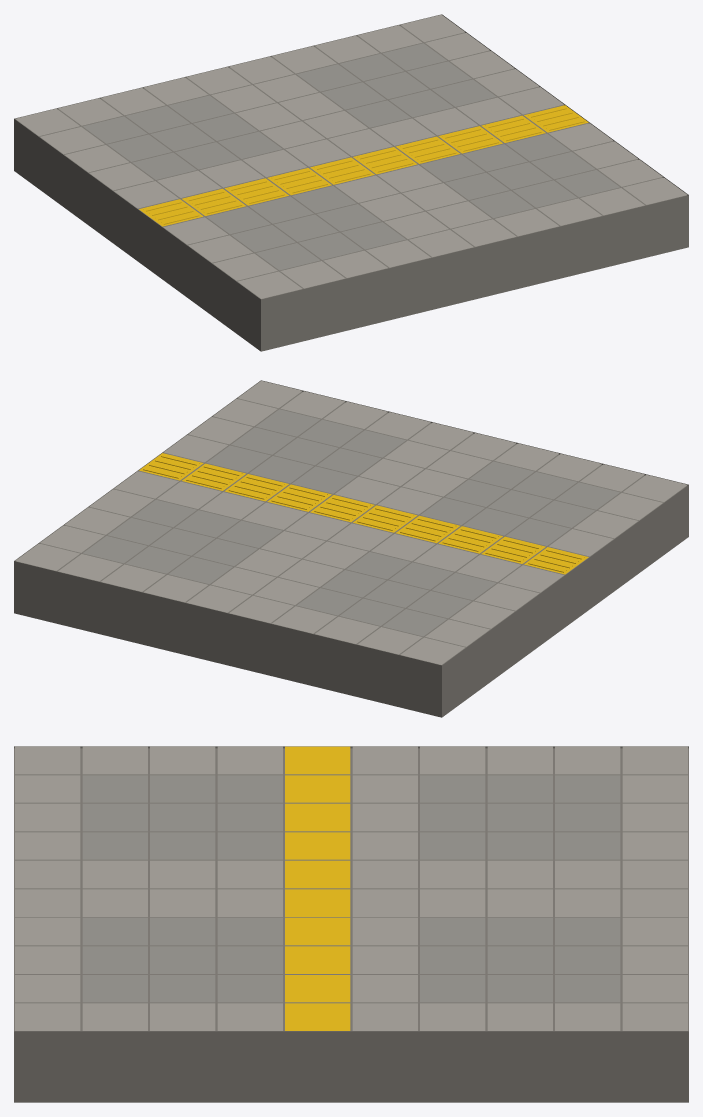
File: SC_Gnd_Sidewalk_Tactile_3x3.gltf
The picture shows the model from 3 angles, top to bottom: view 1: azimuth 30°, elevation 25°; view 2: azimuth 150°, elevation 25°; view 3: azimuth 270°, elevation 25°; orthographic projection. The views are drawn at different scales.
Parts seen in each view (by area): view 1: SC_Gnd_Sidewalk_Tactile_3x3; view 2: SC_Gnd_Sidewalk_Tactile_3x3; view 3: SC_Gnd_Sidewalk_Tactile_3x3.
Part boxes in pixels (x1=…): SC_Gnd_Sidewalk_Tactile_3x3: x1=14, y1=14, x2=688, y2=351; SC_Gnd_Sidewalk_Tactile_3x3: x1=14, y1=380, x2=688, y2=717; SC_Gnd_Sidewalk_Tactile_3x3: x1=14, y1=746, x2=688, y2=1102.
Bounding box in the file's own units: 3 × 0.355 × 3.
Materials: 1 (1 with a texture image).
